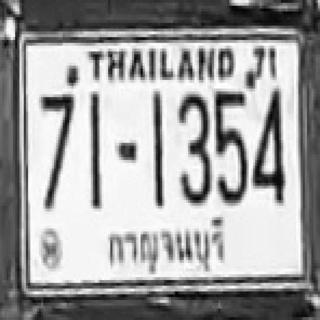N01: (90, 91, 101, 209), (151, 90, 162, 207)
N03: (177, 91, 210, 203)
N04: (251, 86, 283, 200)
N05: (214, 89, 246, 203)
N07: (39, 91, 74, 209), (39, 93, 74, 182)
P17: (102, 213, 231, 277)
